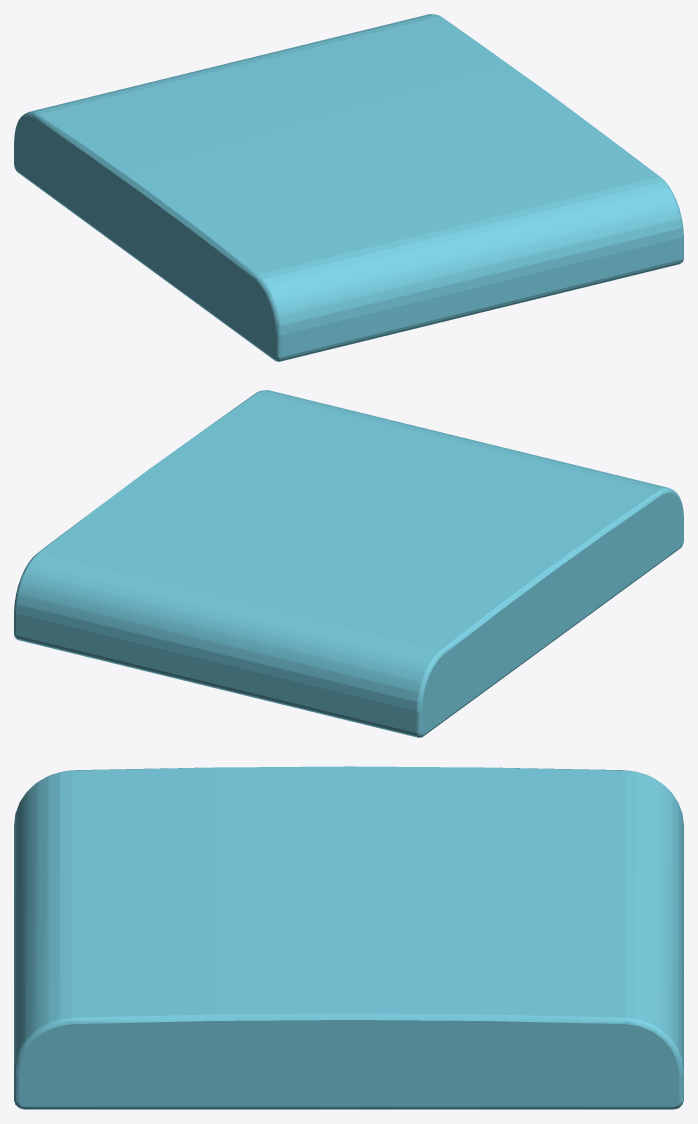
The model's file is HSI040000.glb.
3 views of the same model, one above another, from view 1: azimuth 30°, elevation 25°; view 2: azimuth 150°, elevation 25°; view 3: azimuth 270°, elevation 25° (orthographic). The views are drawn at different scales.
Parts seen in each view (by area): view 1: 4; view 2: 4; view 3: 4.
Boxes of the visible parts, <box> form: 4: <box>14,14,683,361</box>; 4: <box>14,390,683,737</box>; 4: <box>14,766,683,1109</box>.
Bounding box in the file's own units: 0.608 × 0.108 × 0.6855.
